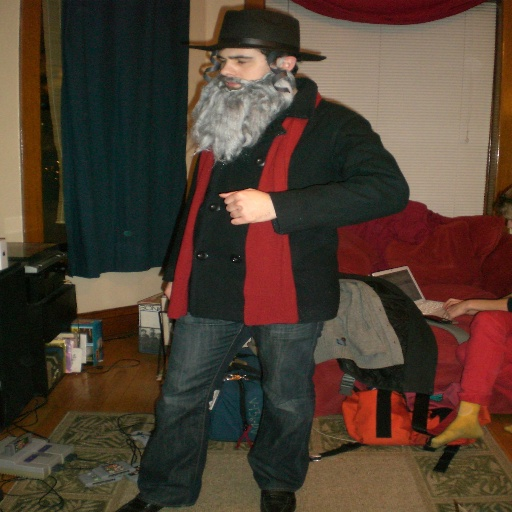hand: (223, 178, 281, 224), (442, 298, 475, 314), (443, 302, 471, 318)
